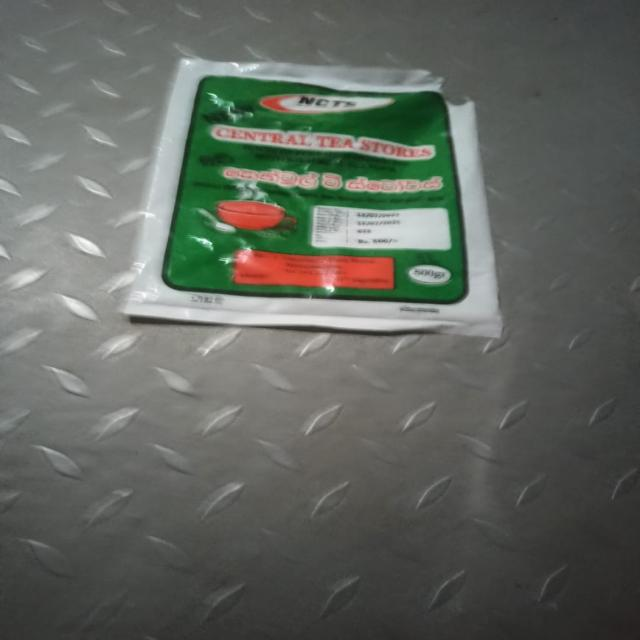Central Tea: (152, 74, 500, 357)
